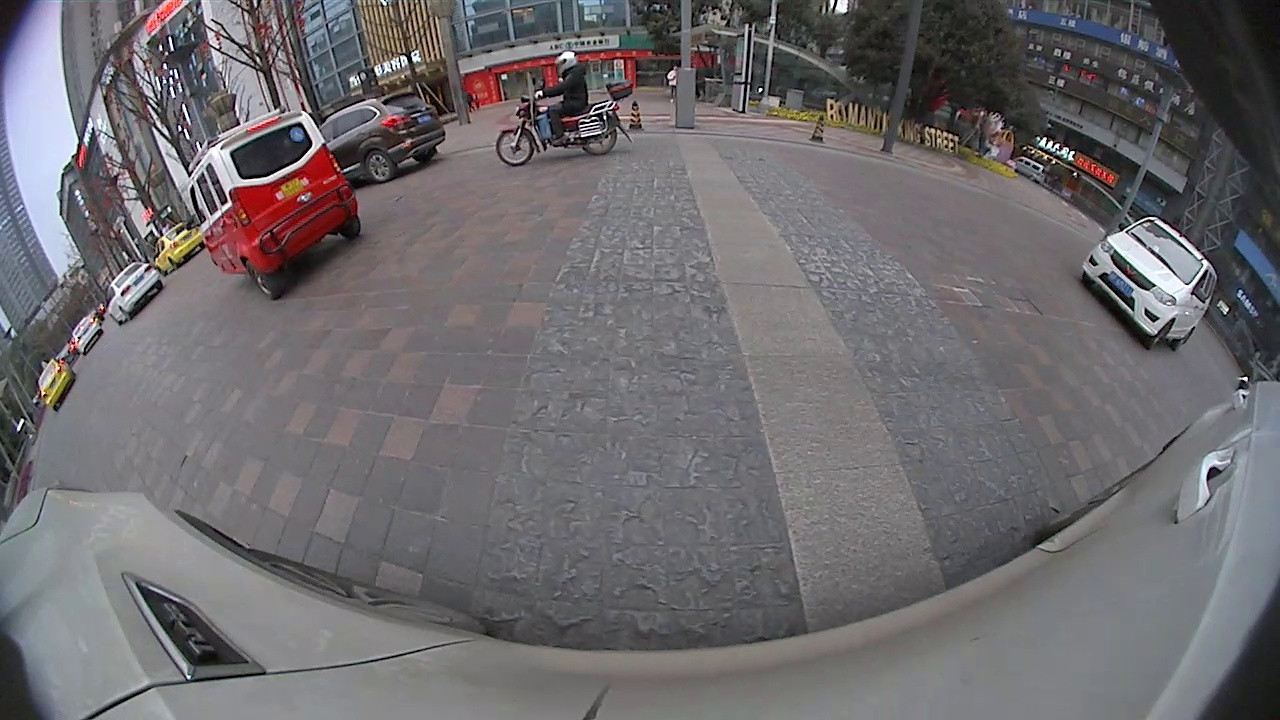car: (1080, 214, 1219, 353), (311, 87, 447, 186), (104, 260, 164, 326), (152, 220, 206, 277), (36, 356, 78, 412), (70, 315, 105, 357)
front: (493, 126, 537, 169)
rear: (580, 123, 619, 158), (244, 261, 275, 300), (363, 148, 394, 184)
rider: (183, 107, 363, 300), (495, 48, 634, 169)
